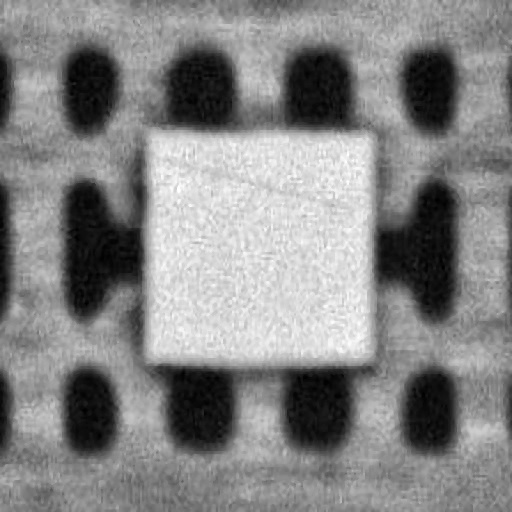DIE_CRACK: (228, 103, 512, 137)
